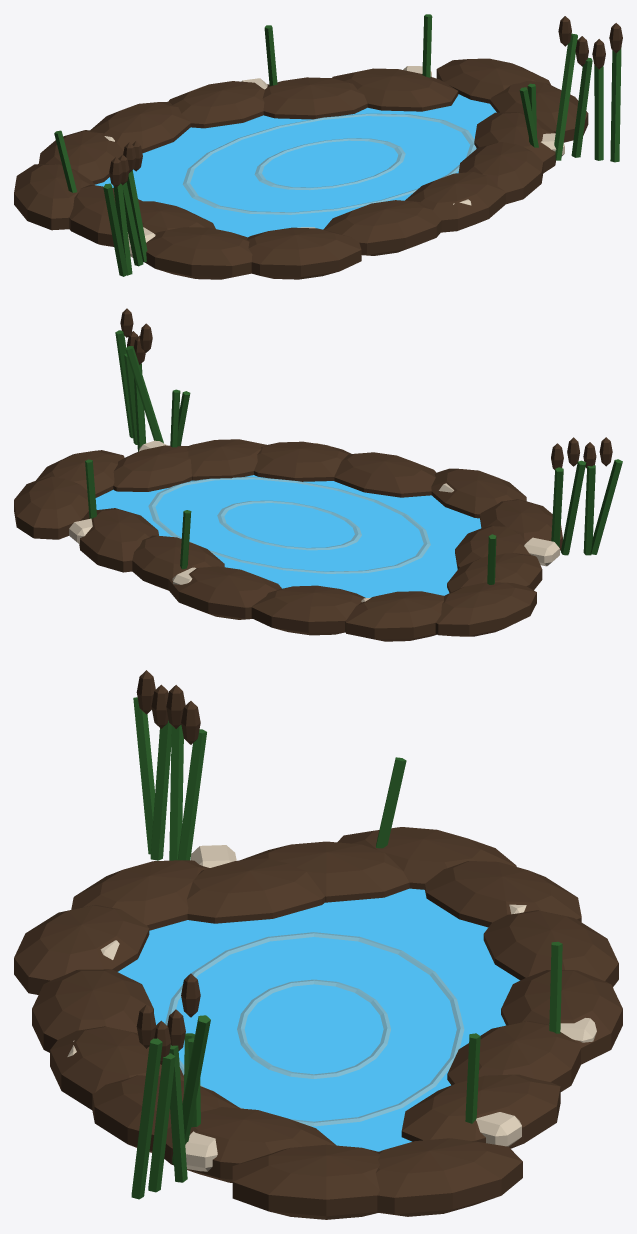
The model's file is MD_Zoo_Puddle.fbx.
The picture shows the model from 3 angles, top to bottom: view 1: azimuth 30°, elevation 25°; view 2: azimuth 150°, elevation 25°; view 3: azimuth 270°, elevation 25°; orthographic projection. The views are drawn at different scales.
Parts seen in each view (by area): view 1: MD_Zoo_Puddle; view 2: MD_Zoo_Puddle; view 3: MD_Zoo_Puddle.
Part boxes in pixels (x1,y1,x2,y2): MD_Zoo_Puddle: (14, 14, 622, 279); MD_Zoo_Puddle: (14, 308, 622, 641); MD_Zoo_Puddle: (14, 670, 622, 1219).
Size of the model in its own units: 362 by 99.25 by 247.
